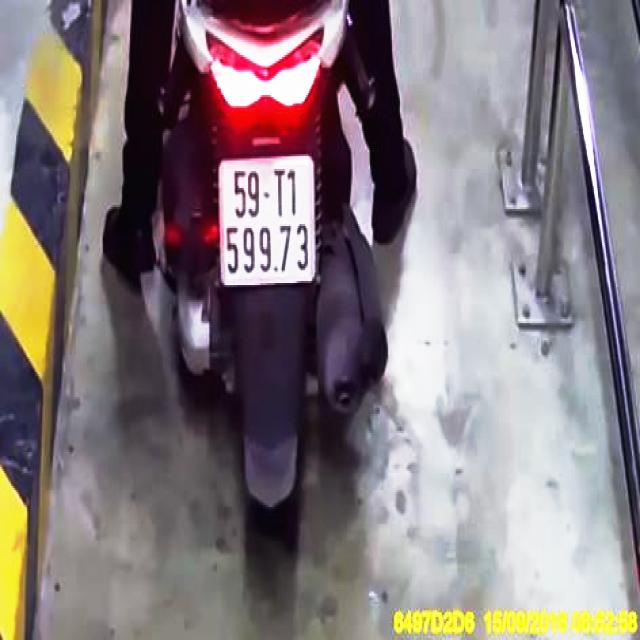license_plate: (219, 158, 316, 284)
